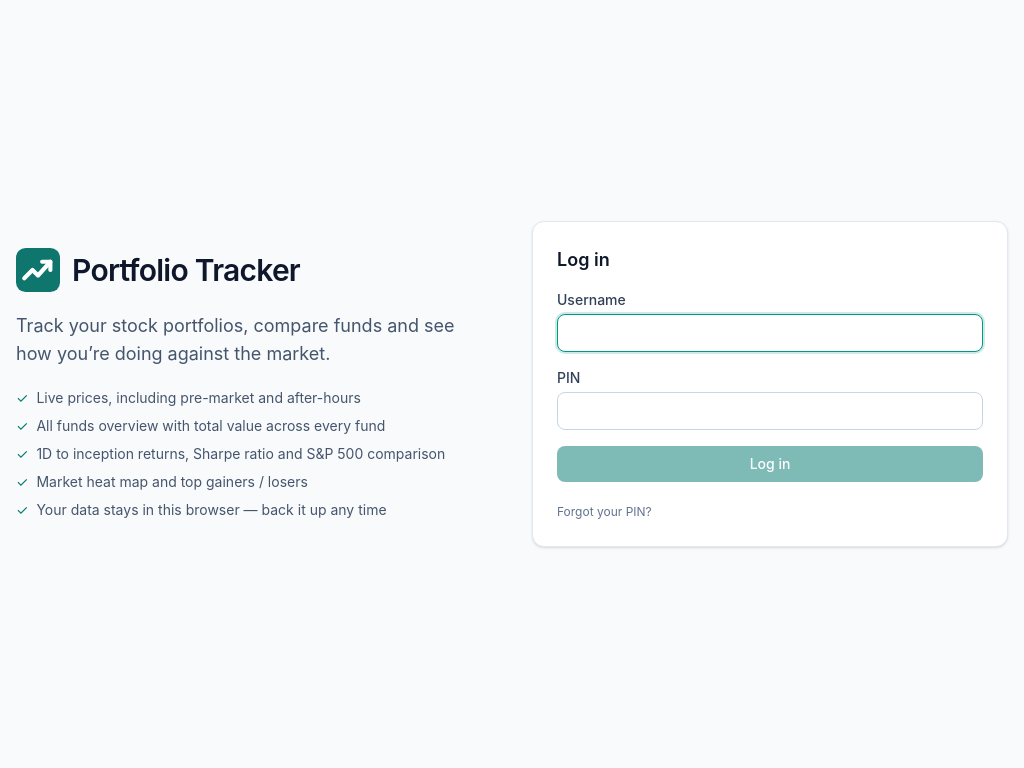
it: AuthGate › can erase everything and start over when the PIN is forgotten
Click the button "Forgot your PIN?".
click(604, 512)  # box [557,504,652,520]
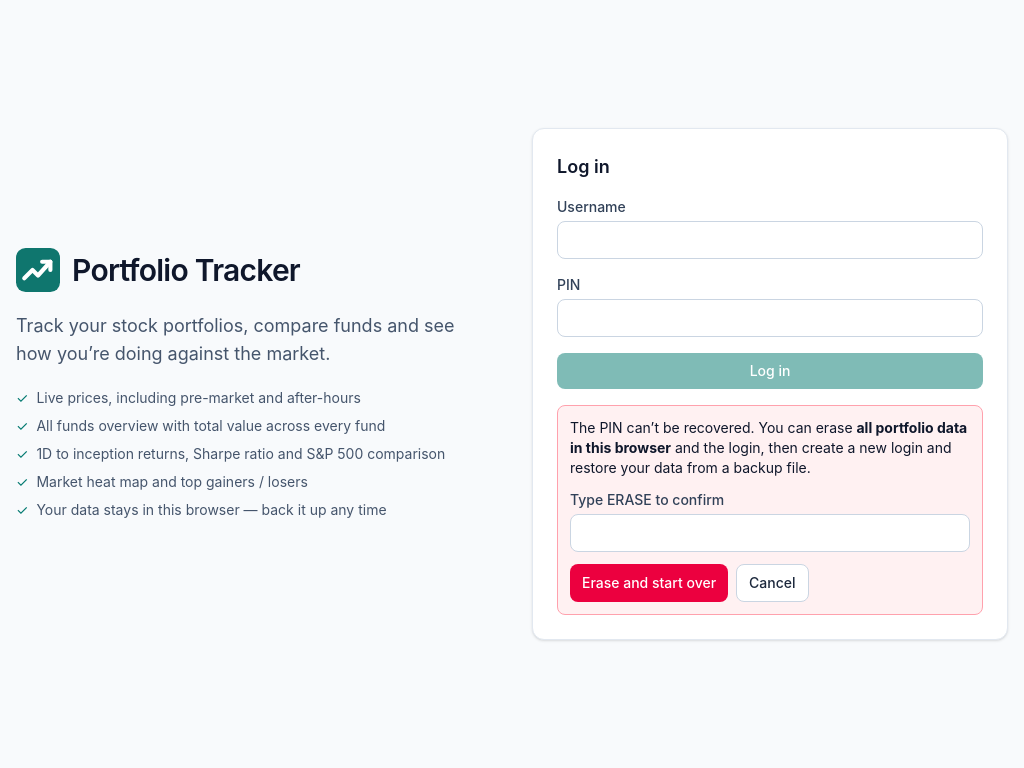
Now the button "Erase and start over" is disabled, box [570,564,728,602]
Type "ERASE" into the field labelled "Type ERASE to confirm".
click(770, 533); type("ERASE")  # box [570,514,970,552]
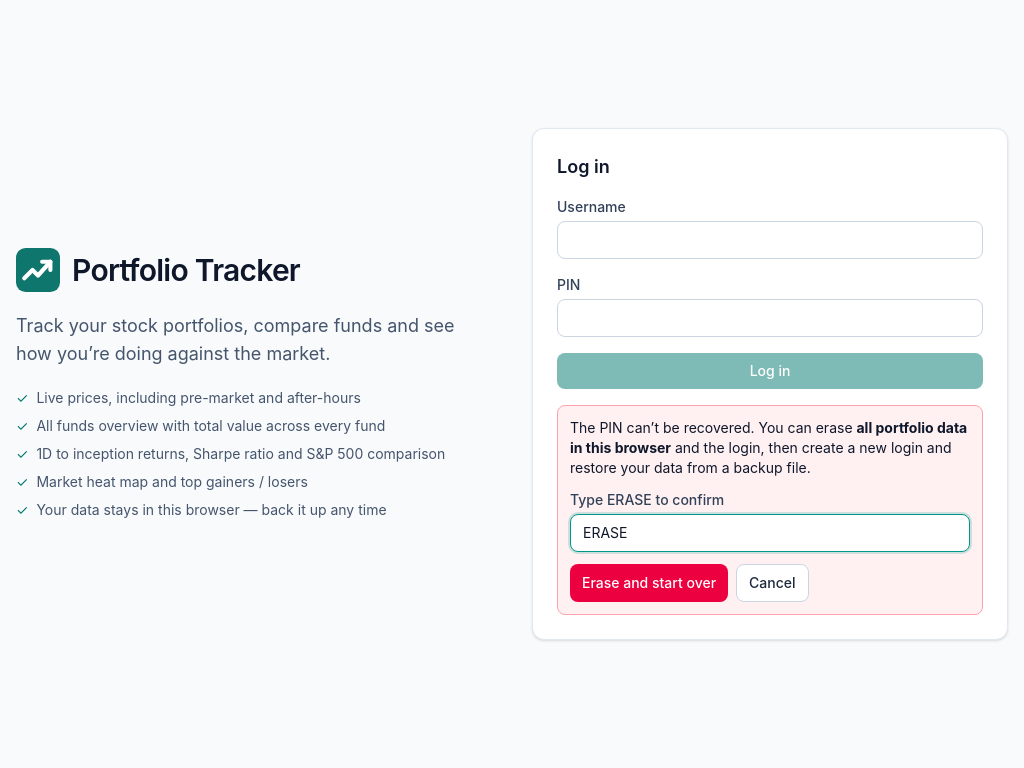
Click the button "Erase and start over".
click(649, 583)  # box [570,564,728,602]
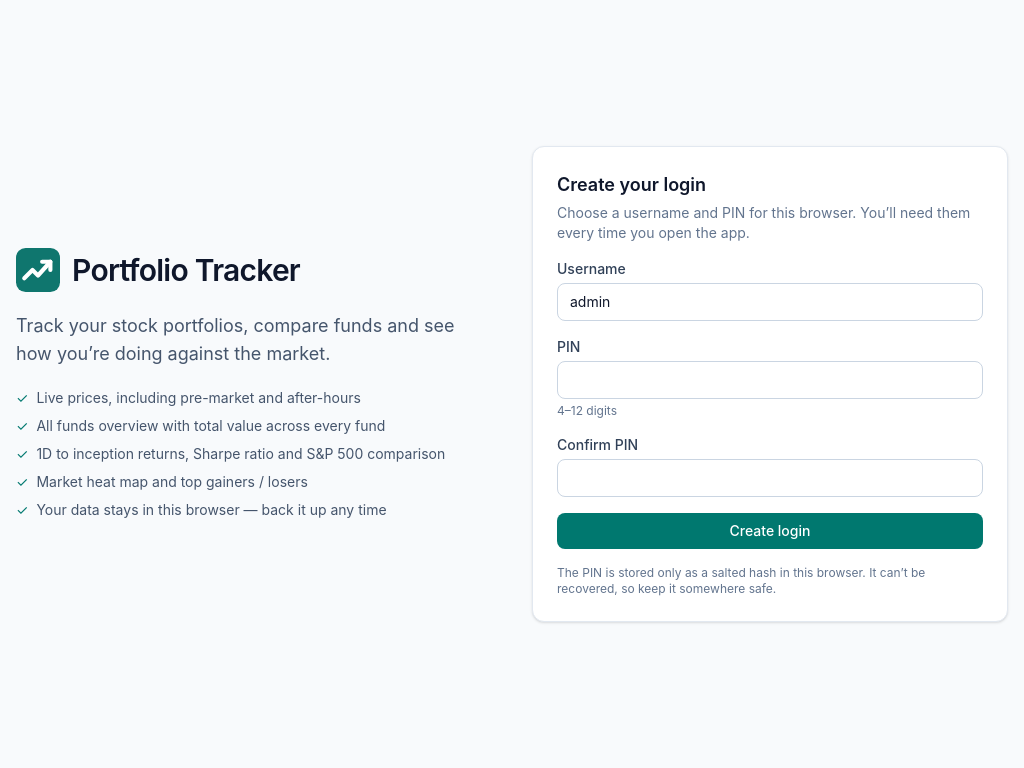
Now the form named "Create login" is shown, box [557,171,983,597]
